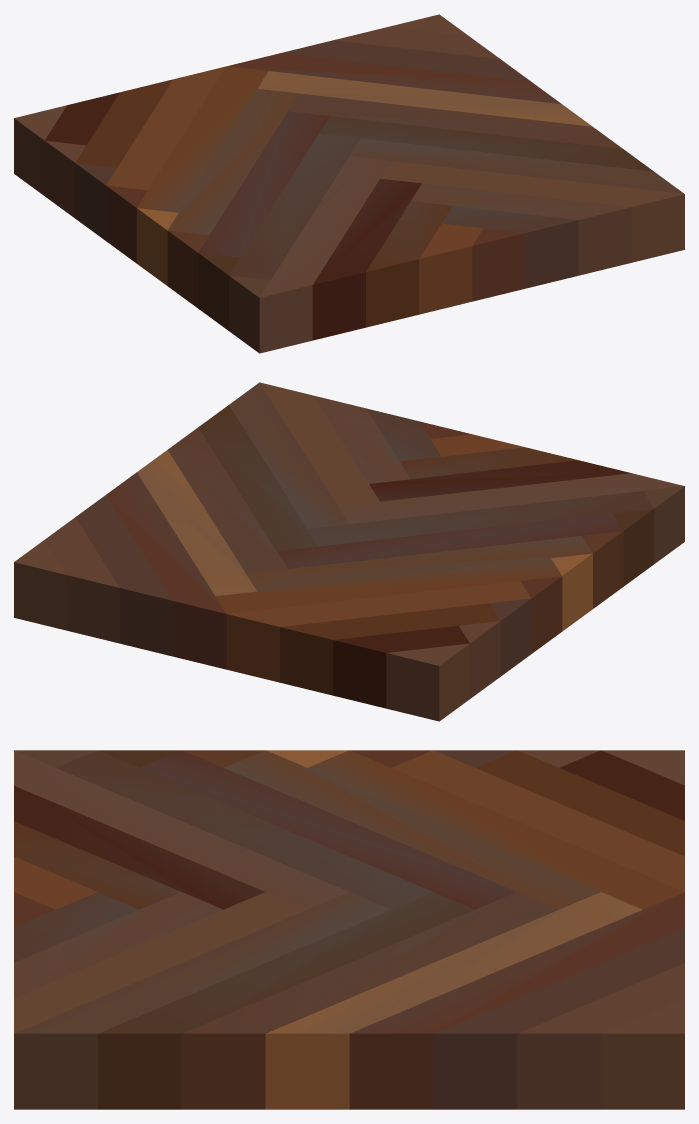
Rendered from Floor_HerringboneA.fbx.
3 views of the same model, one above another, from view 1: azimuth 30°, elevation 25°; view 2: azimuth 150°, elevation 25°; view 3: azimuth 270°, elevation 25° (orthographic). The views are drawn at different scales.
Visible parts, largest first — view 1: Floor_HerringboneA; view 2: Floor_HerringboneA; view 3: Floor_HerringboneA.
Part boxes in pixels (box(x1,y1,x2,y2)): Floor_HerringboneA: box(14, 14, 684, 353); Floor_HerringboneA: box(14, 382, 684, 721); Floor_HerringboneA: box(14, 750, 684, 1109).
Size of the model in its own units: 200 by 25 by 200.
